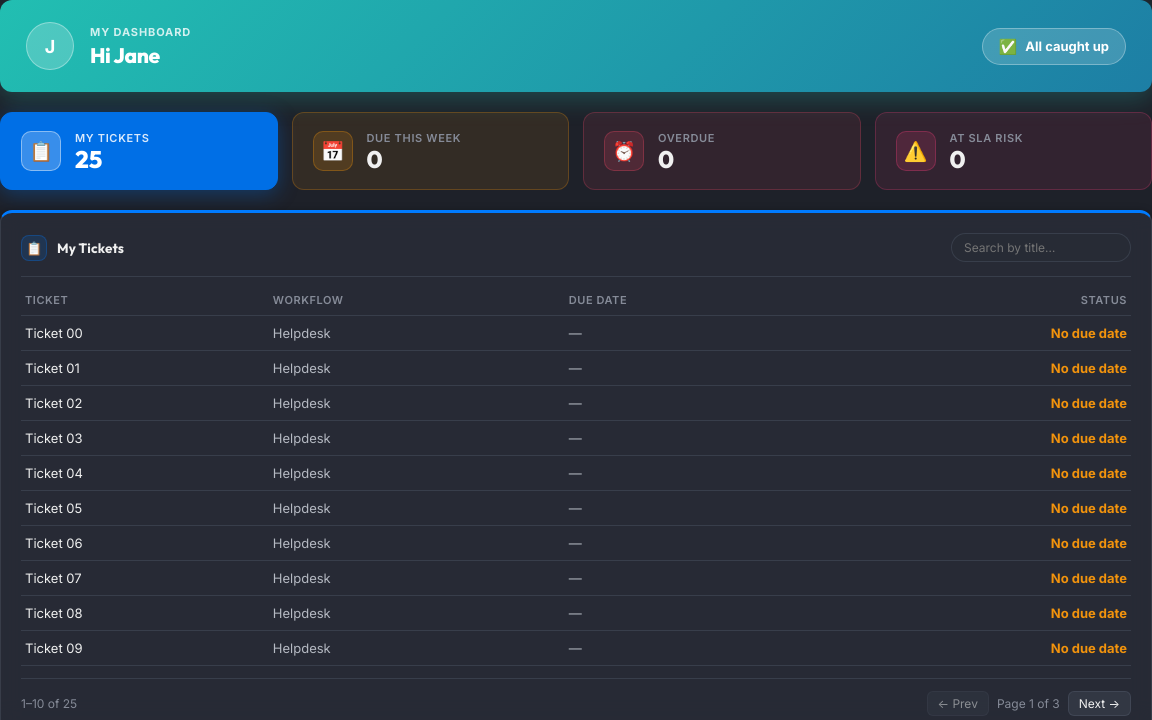
Test: Dashboard — KPI tiles filter the My Tickets list › paginates the My Tickets list at 10 per page and resets to page 1 on KPI-tile change
Expected: the text "Ticket 00" is shown, [21, 316, 269, 350]
Expected: the text "Ticket 10" is not shown
Click the button "Next →" at (1099, 704), box [1068, 691, 1131, 716]
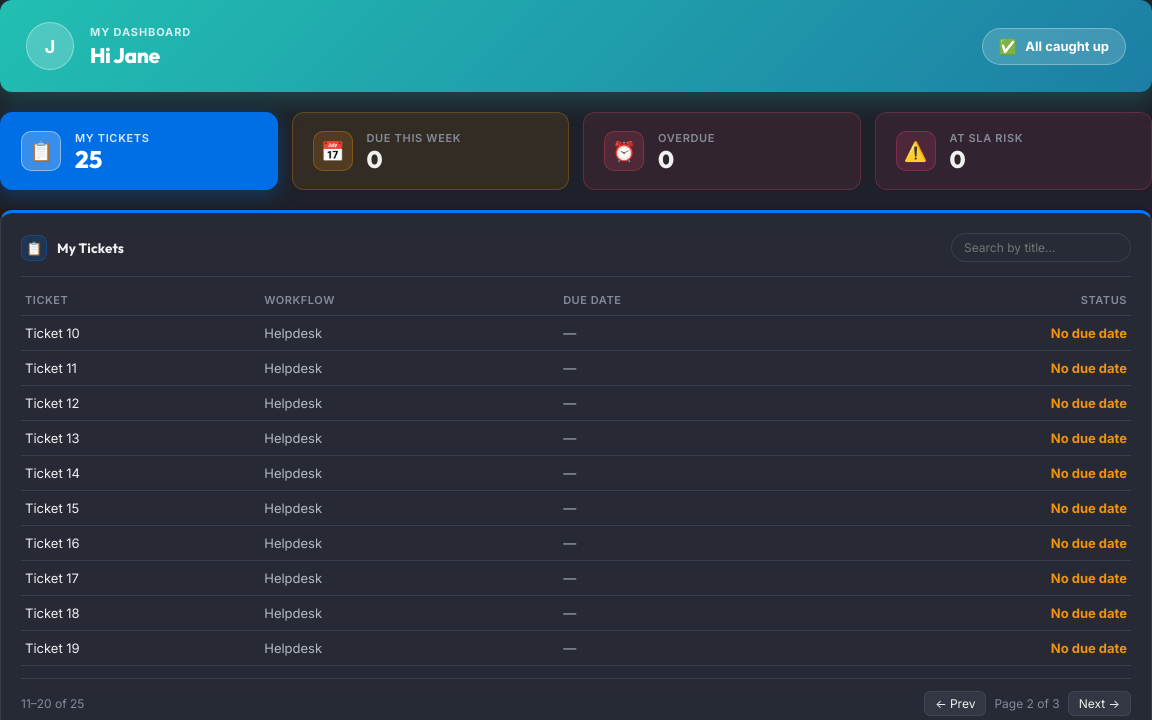
Expected: the text "Ticket 10" is shown, [21, 316, 260, 350]
Expected: the text "Ticket 00" is gone
Type "Ticket 0" into the field with placeholder "Search by title…" at (1041, 248), box [951, 233, 1131, 262]
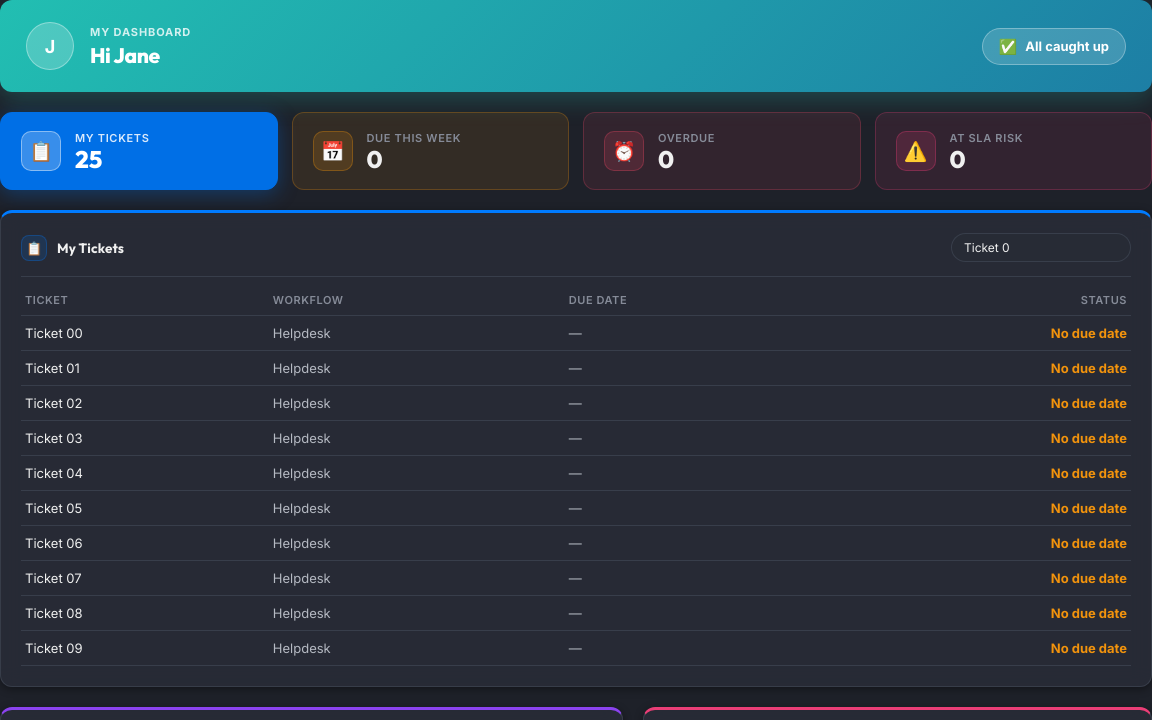
Expected: the text "Ticket 00" is shown, [21, 316, 269, 350]
